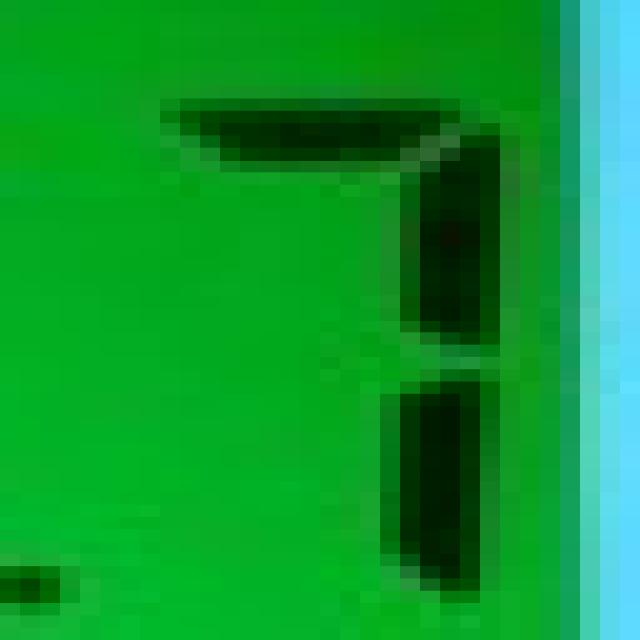.: (0, 554, 80, 615)
7: (140, 87, 540, 616)
